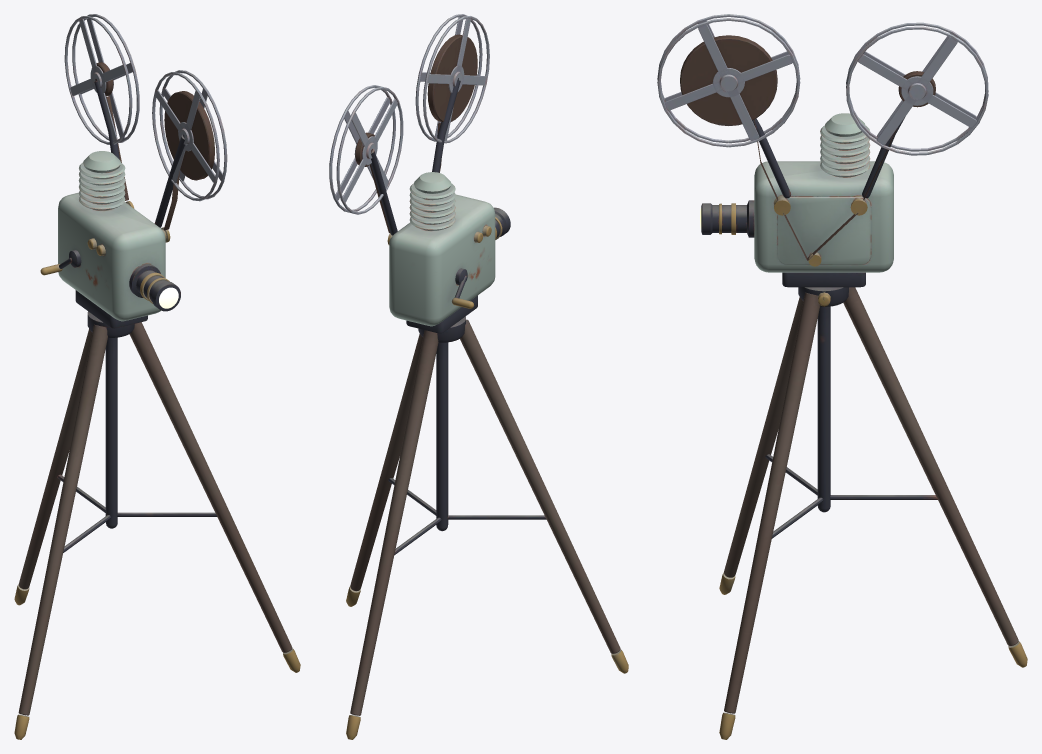
File: film-projector.glb
3 views of the same model, side by side, from view 1: azimuth 30°, elevation 25°; view 2: azimuth 150°, elevation 25°; view 3: azimuth 270°, elevation 25° (orthographic). The views are drawn at different scales.
Visible parts, largest first — view 1: body, reel_front, reel_back; view 2: body, reel_front, reel_back; view 3: body, reel_front, reel_back.
Part boxes in pixels (x1,y1,x2,y2): body: (14,79,300,739); reel_front: (152,70,227,201); reel_back: (64,14,139,144); body: (346,78,628,739); reel_front: (415,14,489,143); reel_back: (329,85,403,214); body: (701,113,1027,739); reel_front: (657,14,800,147); reel_back: (846,22,988,155).
Bounding box in the file's own units: 0.7609 × 1.59 × 0.7954.
Materials: 2 (1 with a texture image).
